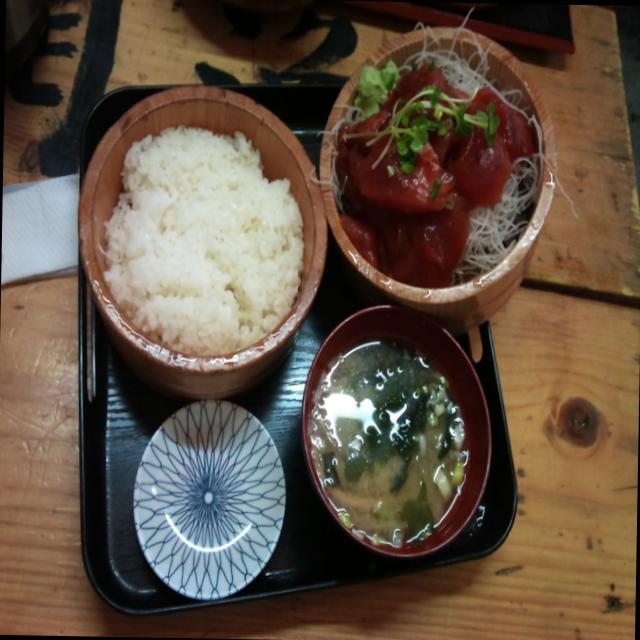Rice: (84, 90, 325, 369)
